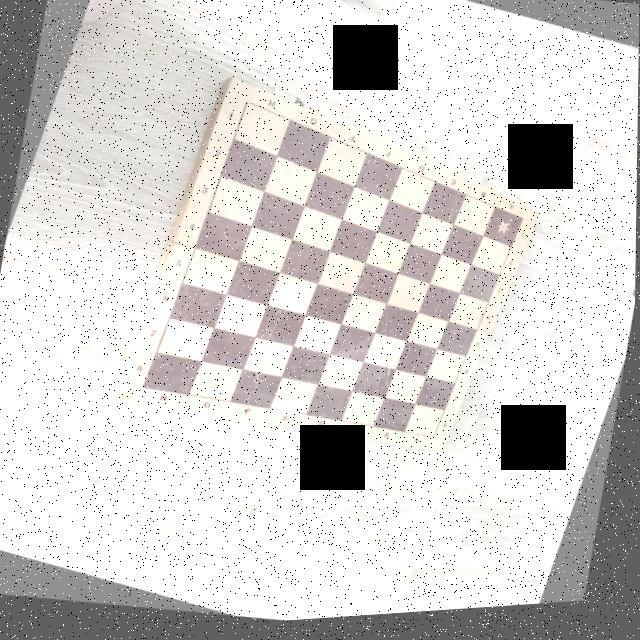chess-table-corners: (239, 100, 256, 112), (138, 384, 150, 396), (430, 440, 439, 447), (520, 223, 528, 230)
